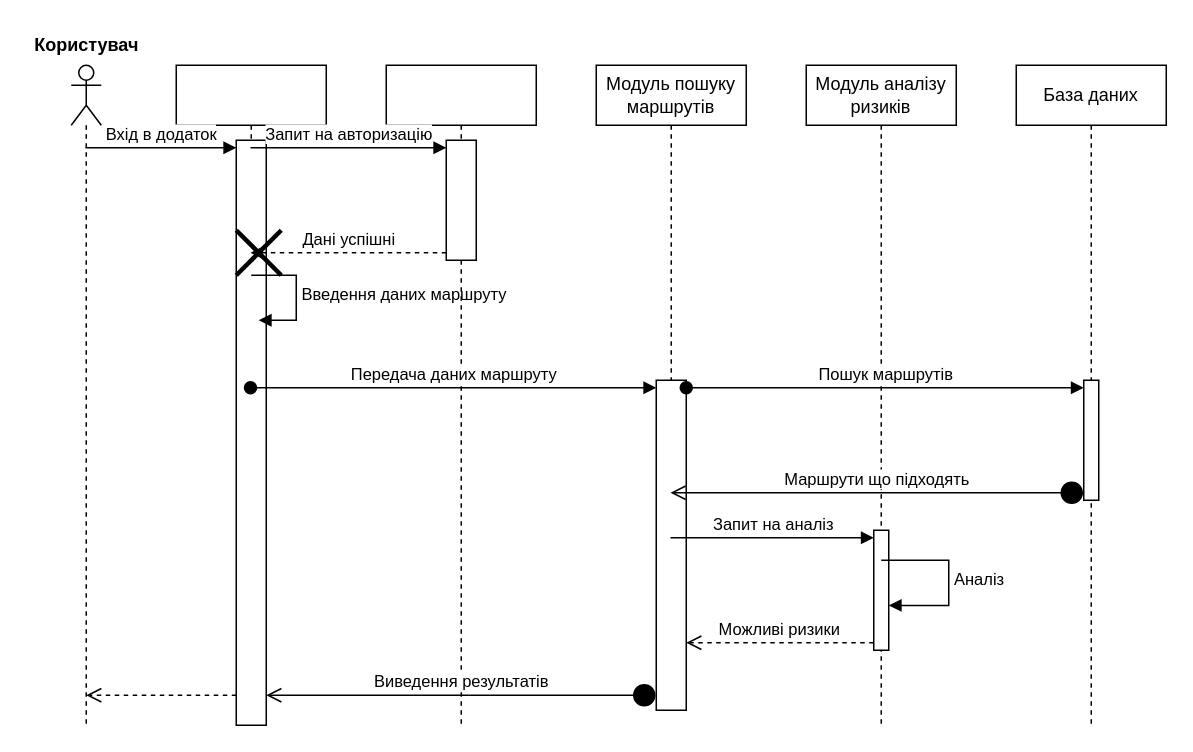
This 1193x752 diagram has some shape labels left out. Each missing label, with the box of its shape:
Система авторизації: (385, 64, 536, 725)
Інтерфейс: (175, 64, 326, 725)
